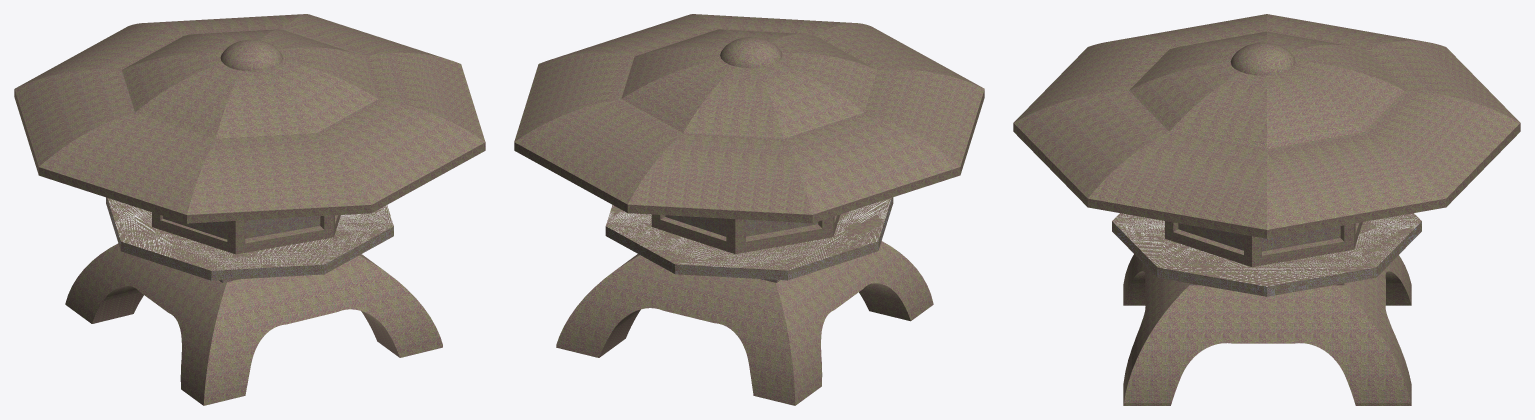
Rendered from lantern_1.fbx.
The picture shows the model from 3 angles, left to right: view 1: azimuth 30°, elevation 25°; view 2: azimuth 150°, elevation 25°; view 3: azimuth 270°, elevation 25°; orthographic projection. The views are drawn at different scales.
Visible parts, largest first — view 1: Group2, Group1, Model; view 2: Group2, Group1, Model; view 3: Group2, Group1, Model.
Boxes of the visible parts, x1,y1,x2,y2 form: Group2: (14,14,485,223); Group1: (65,243,442,405); Model: (106,197,393,282); Group2: (514,14,984,223); Group1: (556,241,933,405); Model: (605,197,893,282); Group2: (1013,14,1520,238); Group1: (1123,254,1411,405); Model: (1112,213,1421,296).
Size of the model in its own units: 8.53 by 5.5 by 8.53.
